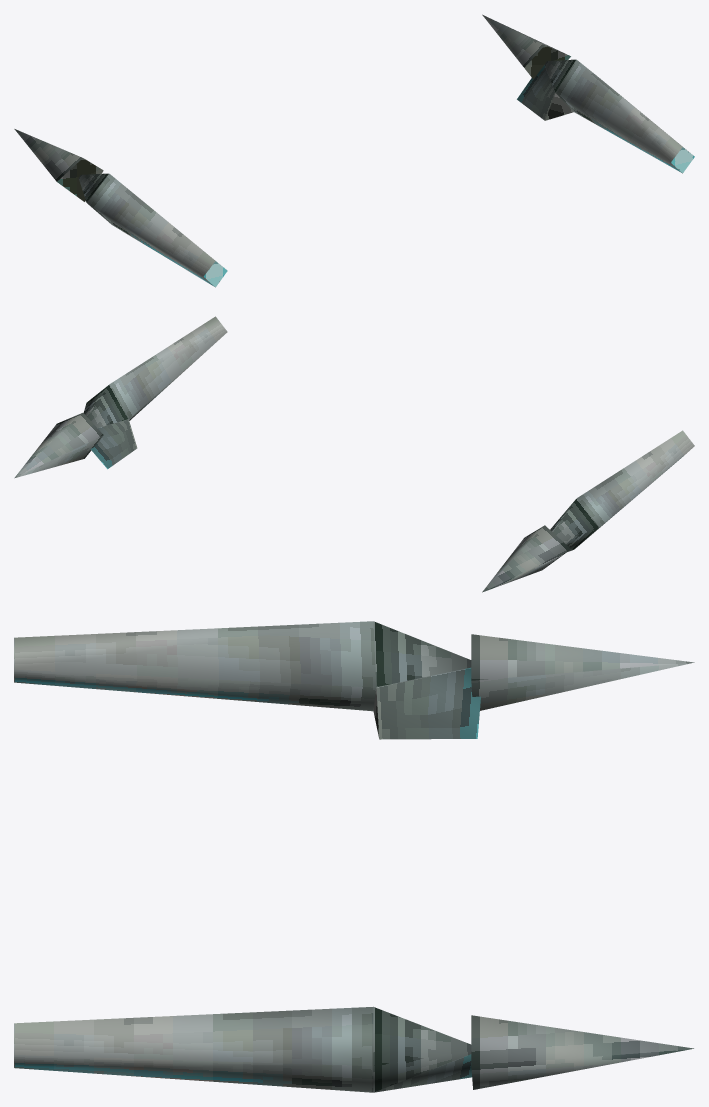
The model's file is kse_firespray_weapon1_s02_l2.fbx.
The picture shows the model from 3 angles, top to bottom: view 1: azimuth 30°, elevation 25°; view 2: azimuth 150°, elevation 25°; view 3: azimuth 270°, elevation 25°; orthographic projection. The views are drawn at different scales.
Parts seen in each view (by area): view 1: mesh_node; view 2: mesh_node; view 3: mesh_node.
Boxes of the visible parts, x1,y1,x2,y2 form: mesh_node: (14,14,694,287); mesh_node: (14,316,694,592); mesh_node: (14,621,694,1092).
Bounding box in the file's own units: 4.15 × 0.4274 × 2.82.
1 material, 1 textured.
